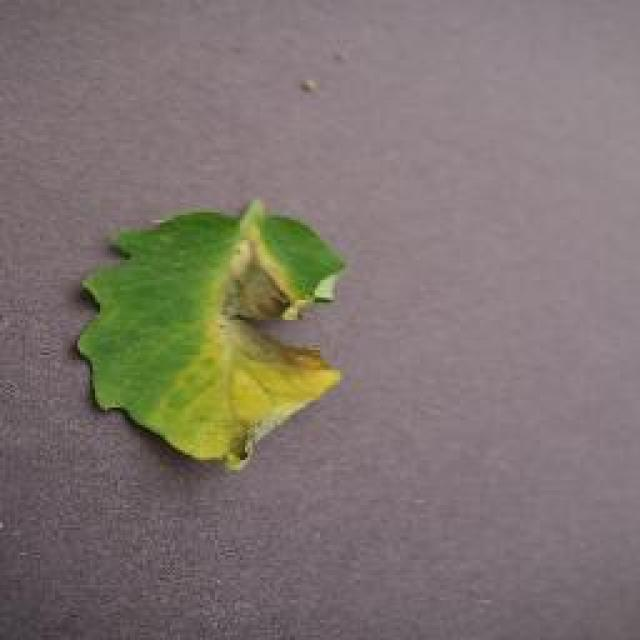Tomato Late Blight: (198, 202, 335, 468)
